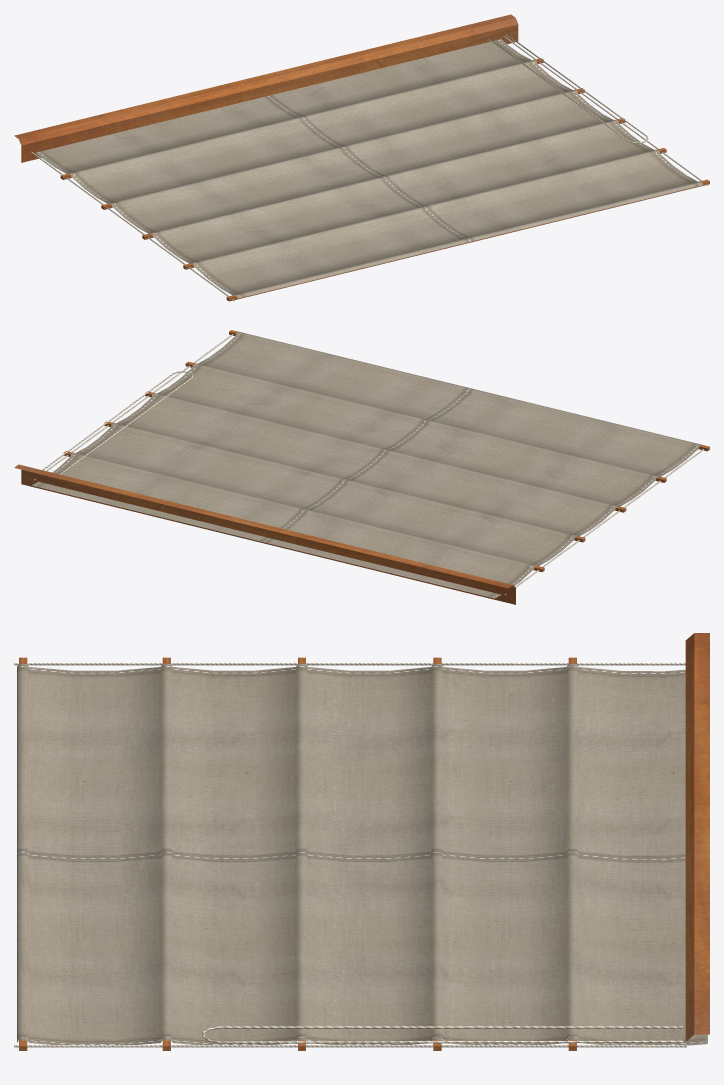
The model's file is blinders.FBX.
The picture shows the model from 3 angles, top to bottom: view 1: azimuth 30°, elevation 25°; view 2: azimuth 150°, elevation 25°; view 3: azimuth 270°, elevation 25°; orthographic projection. The views are drawn at different scales.
Parts seen in each view (by area): view 1: blinders; view 2: blinders; view 3: blinders.
Part boxes in pixels (x1,y1,x2,y2): blinders: [14, 14, 709, 301]; blinders: [14, 330, 709, 604]; blinders: [14, 633, 709, 1050].
Size of the model in its own units: 391 by 16.45 by 287.
